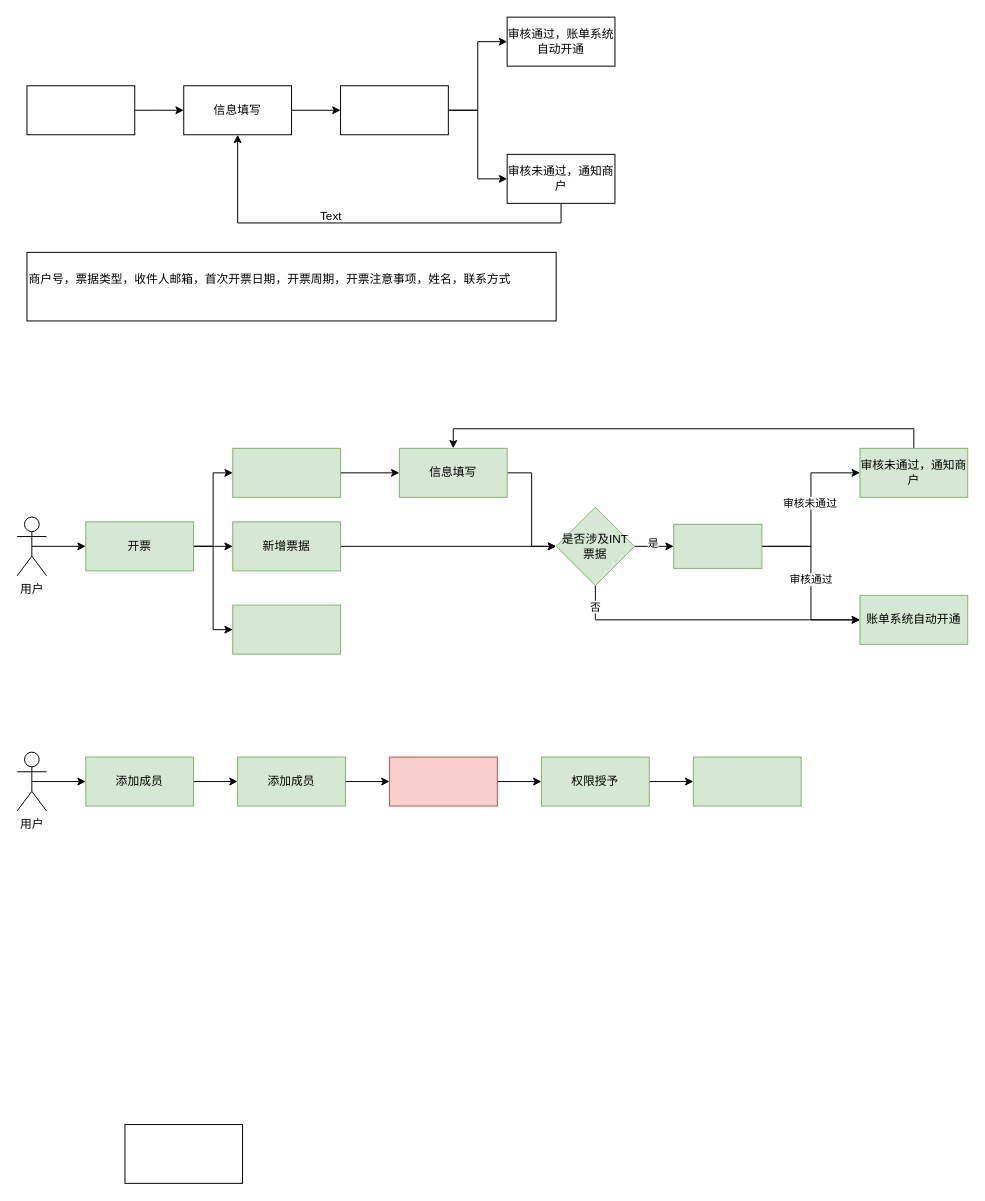
Some shapes in this 985 by 1201 pixel diagram are drawn without their labels. The centre of each missing label's shape, as x and y in pixels:
"信息修改" goes at (x=286, y=629).
"信息审核" goes at (x=394, y=110).
"审核" goes at (x=717, y=545).
"操作员账号激活" goes at (x=746, y=781).
"申请开通" goes at (x=80, y=110).
"邮箱校验提示" goes at (x=443, y=781).
"首次开票" goes at (x=286, y=472).
